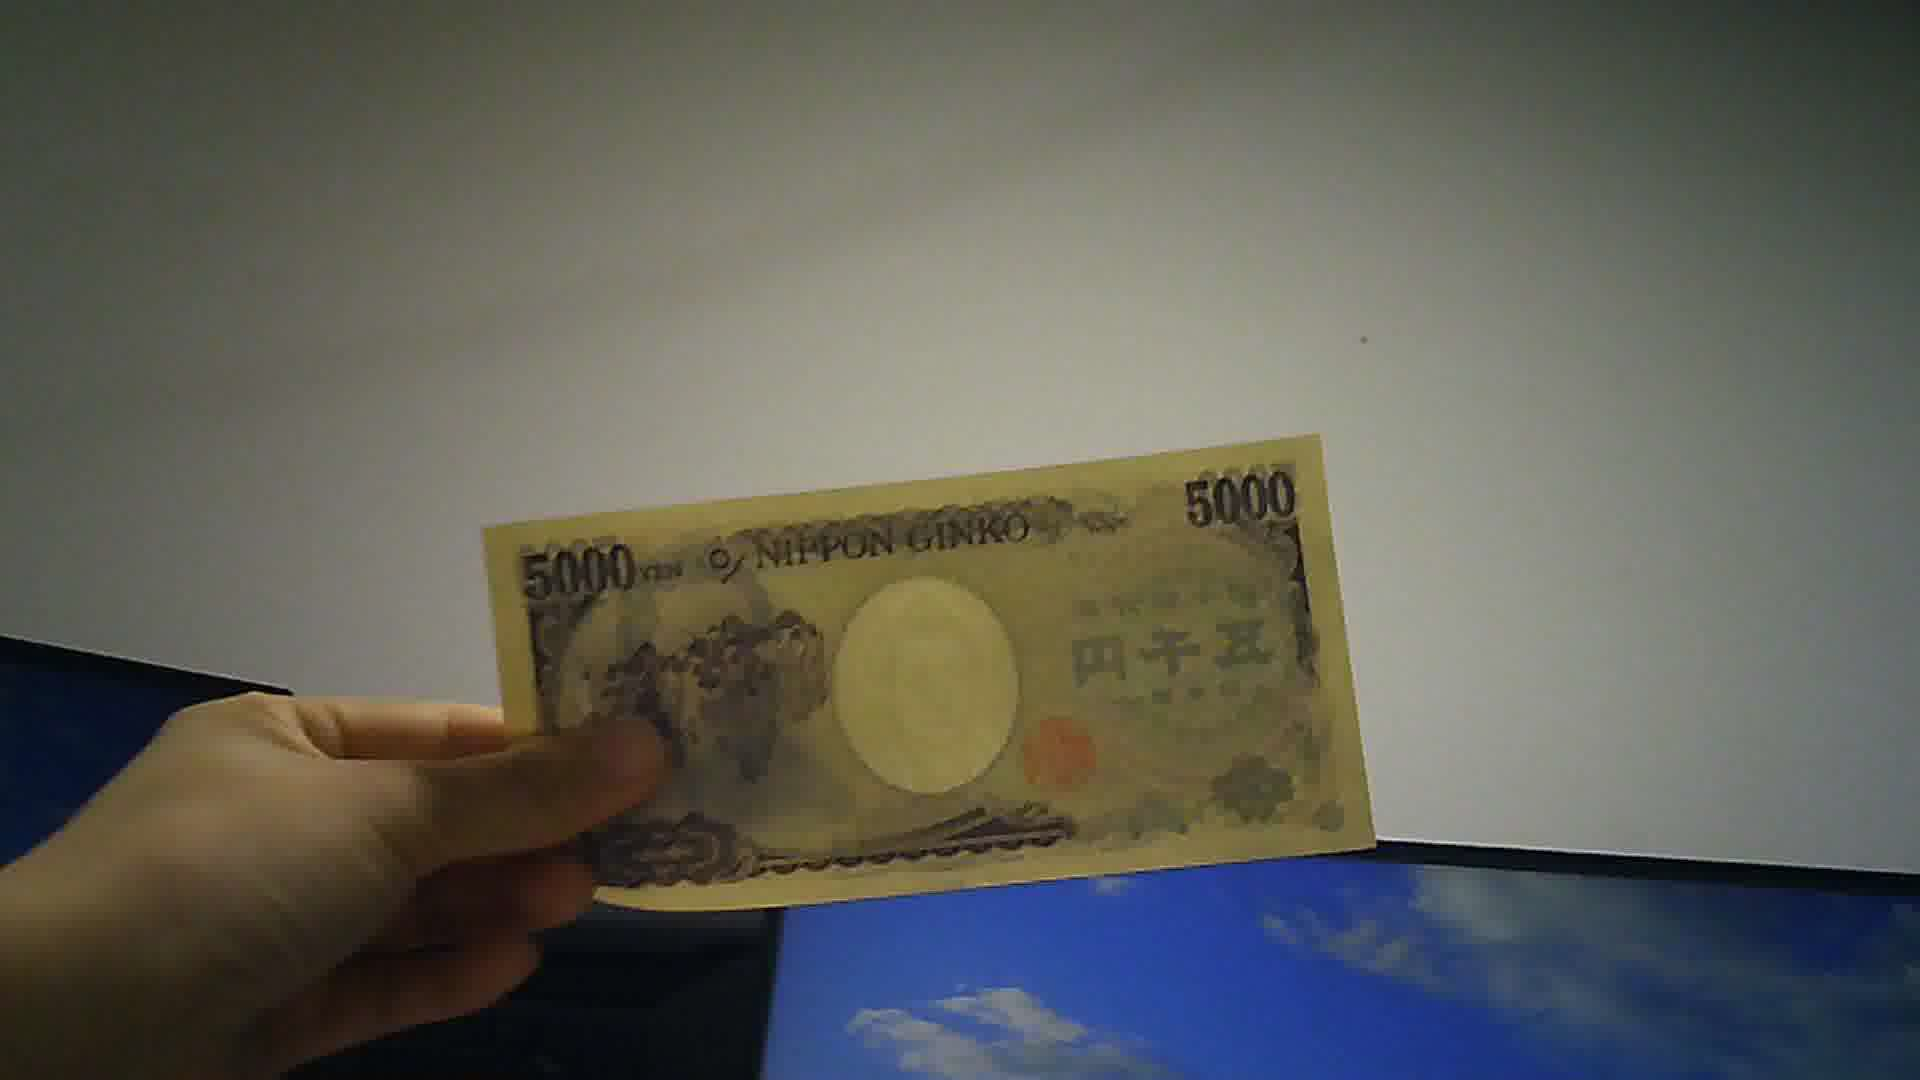5,000 Yen: (472, 433, 1406, 899)
